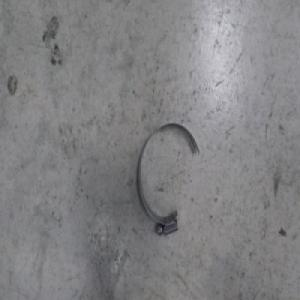AdjustableClamp: (137, 122, 199, 238)
